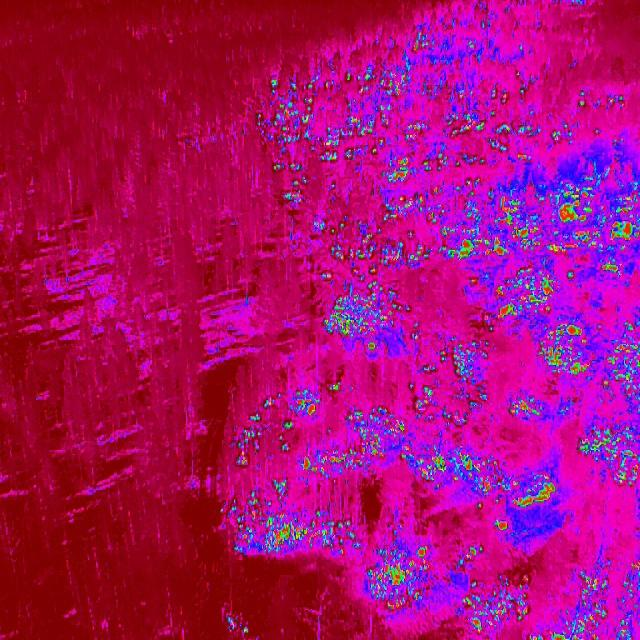fire: (254, 41, 530, 221), (439, 175, 640, 281), (304, 221, 434, 363), (235, 381, 408, 482), (217, 480, 365, 562), (579, 320, 640, 485), (400, 422, 503, 512), (566, 561, 640, 640), (365, 536, 437, 614), (472, 266, 564, 322), (410, 342, 483, 412), (454, 573, 532, 636), (534, 317, 600, 382), (492, 474, 558, 537), (503, 391, 549, 427), (576, 89, 628, 116), (216, 610, 258, 640), (532, 626, 570, 640), (462, 544, 485, 564), (548, 126, 565, 144)
